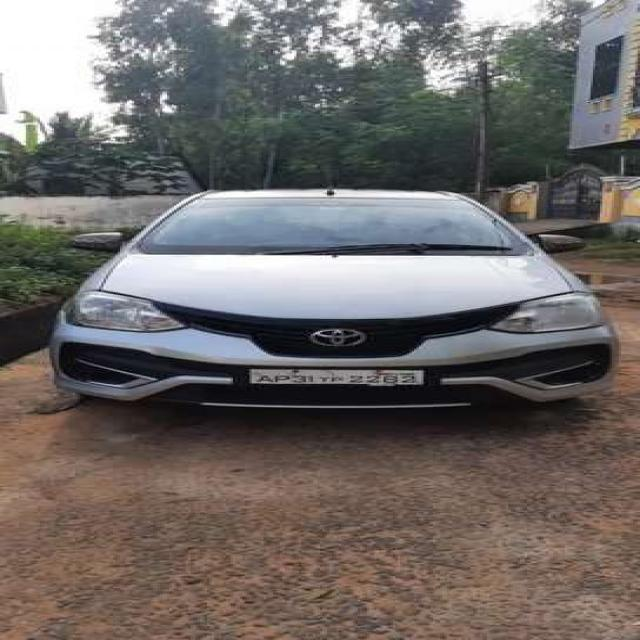license_plate: (242, 361, 434, 391)
